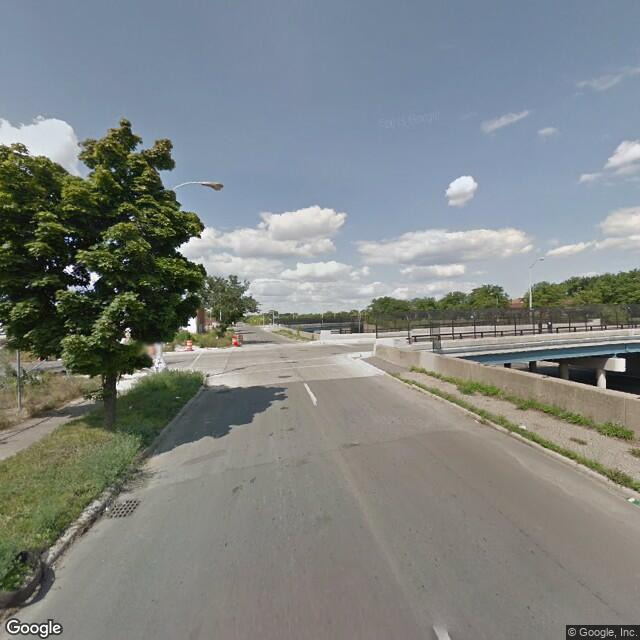litter: (1, 548, 50, 607), (626, 495, 636, 504), (103, 505, 113, 514), (517, 424, 526, 429), (174, 394, 180, 398)
